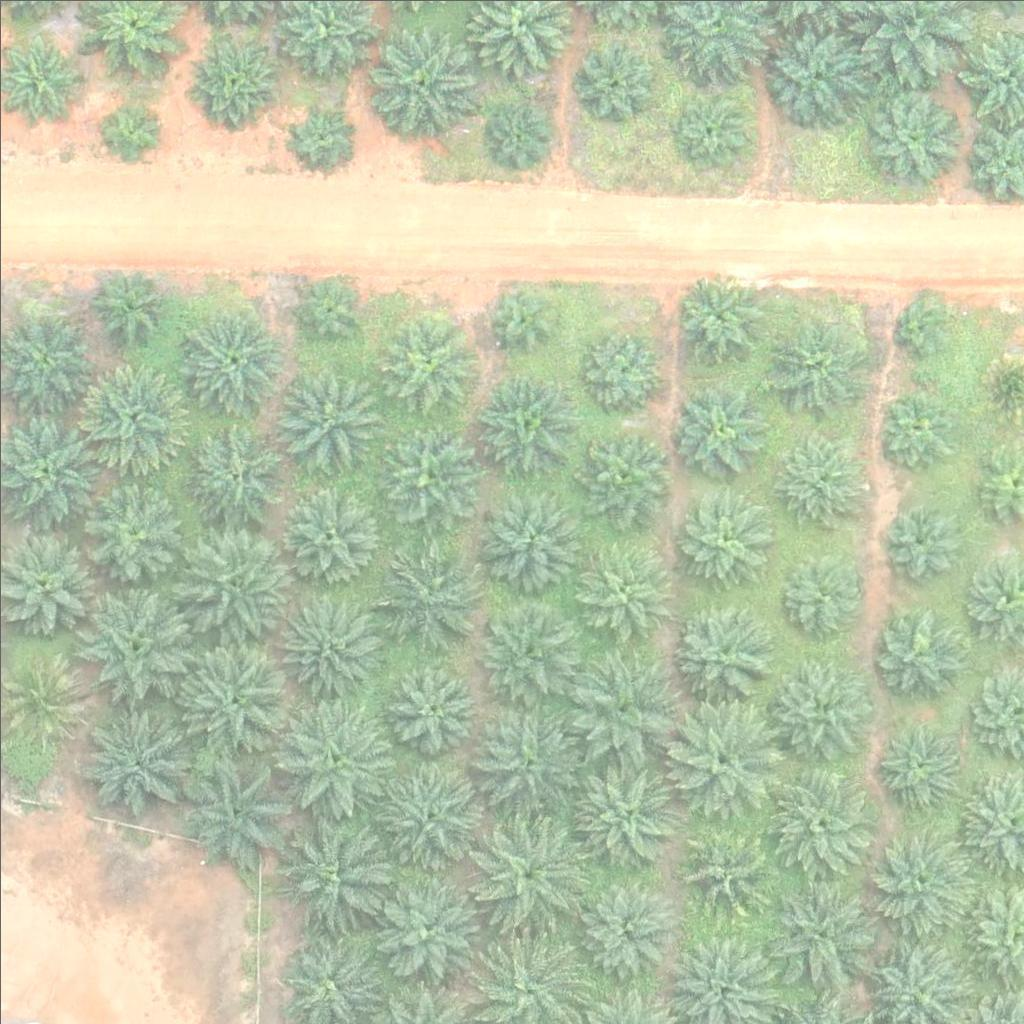Kelapa_Sawit: (74, 703, 187, 817), (76, 587, 189, 701), (176, 752, 289, 866), (471, 814, 584, 927), (472, 709, 585, 822), (569, 760, 682, 873), (177, 646, 289, 760), (274, 813, 386, 927), (75, 354, 187, 467), (180, 522, 292, 635), (277, 700, 389, 813), (373, 755, 485, 868), (564, 653, 676, 766), (666, 704, 778, 817), (767, 765, 879, 878), (371, 870, 483, 983), (763, 878, 875, 991), (184, 418, 284, 519), (180, 311, 280, 412), (278, 595, 378, 696), (277, 482, 377, 583), (277, 373, 377, 474), (378, 550, 478, 651), (376, 424, 476, 525), (376, 312, 476, 413), (470, 600, 570, 701), (476, 492, 576, 593), (475, 370, 575, 471), (569, 543, 669, 644), (570, 426, 670, 527), (671, 601, 771, 702), (672, 485, 772, 586), (768, 657, 868, 758), (871, 835, 971, 936), (367, 33, 467, 134), (83, 479, 183, 579), (669, 269, 769, 369), (763, 319, 863, 419), (768, 21, 868, 121), (680, 827, 768, 916), (576, 325, 664, 413), (389, 661, 476, 749), (672, 385, 759, 473), (778, 554, 865, 642), (776, 442, 863, 530), (879, 724, 966, 812), (873, 605, 960, 693), (580, 885, 667, 973), (871, 92, 958, 180), (183, 36, 270, 124), (885, 502, 960, 578), (672, 87, 747, 163), (483, 278, 558, 354), (878, 393, 953, 469), (575, 44, 650, 119), (91, 265, 166, 340), (287, 271, 362, 346), (486, 102, 549, 165), (889, 293, 951, 356), (287, 104, 349, 167), (101, 103, 163, 166)
